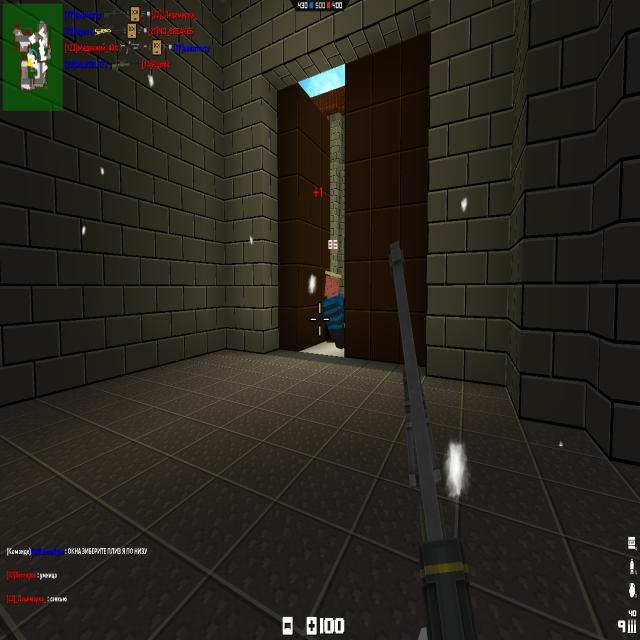player: (323, 271, 345, 352)
